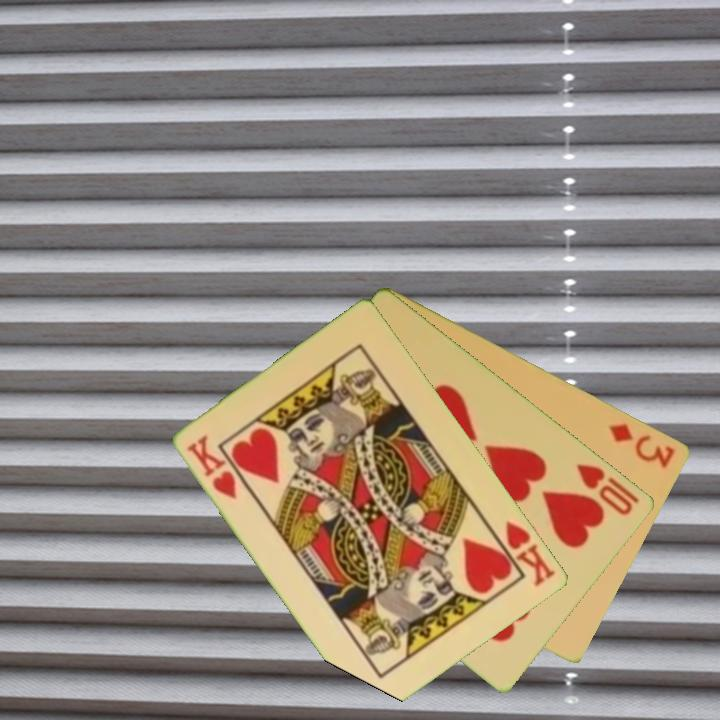10h: (573, 459, 643, 518)
3d: (605, 419, 679, 471)
Kh: (488, 517, 559, 590), (184, 431, 241, 503)
